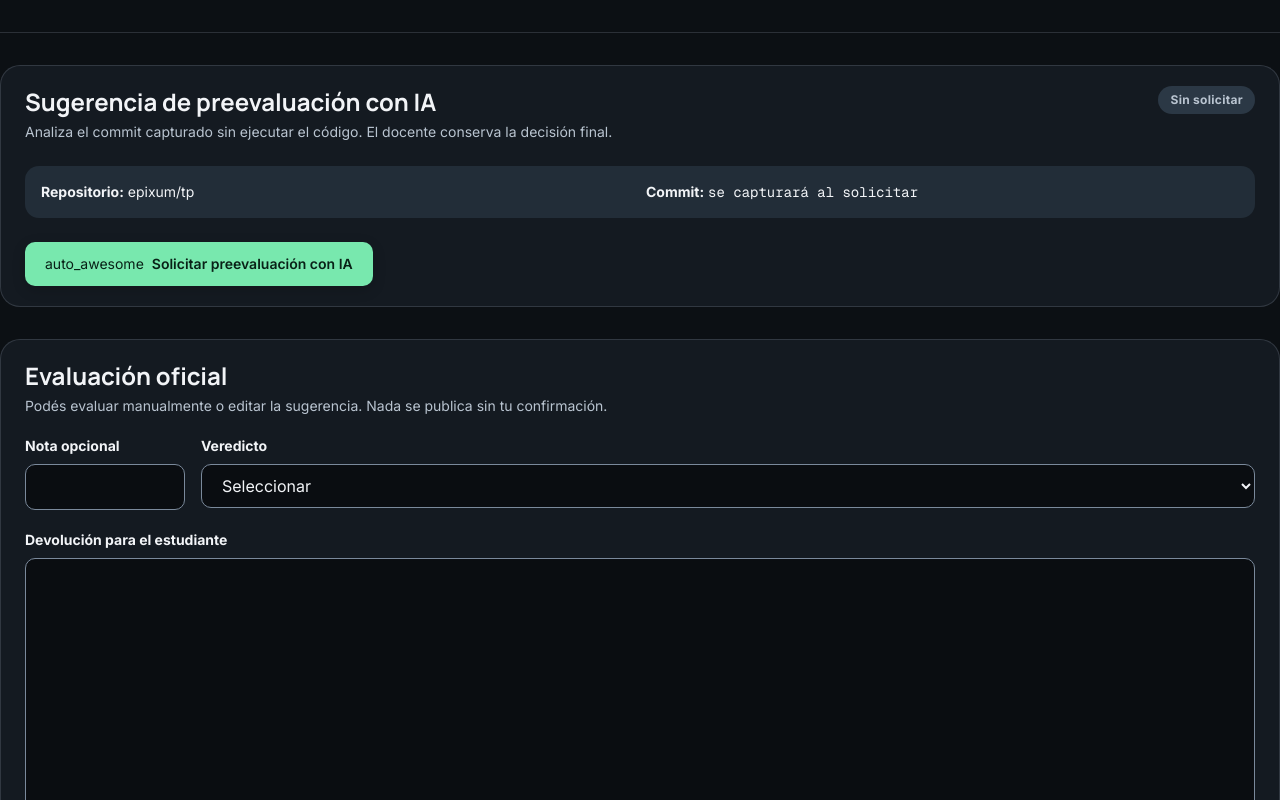
AIPreevaluationClient › presenta fallo recuperable y permite reintentar
Click the button "auto_awesome Solicitar preevaluación con IA" at [199, 264], box 25,242 -> 373,286
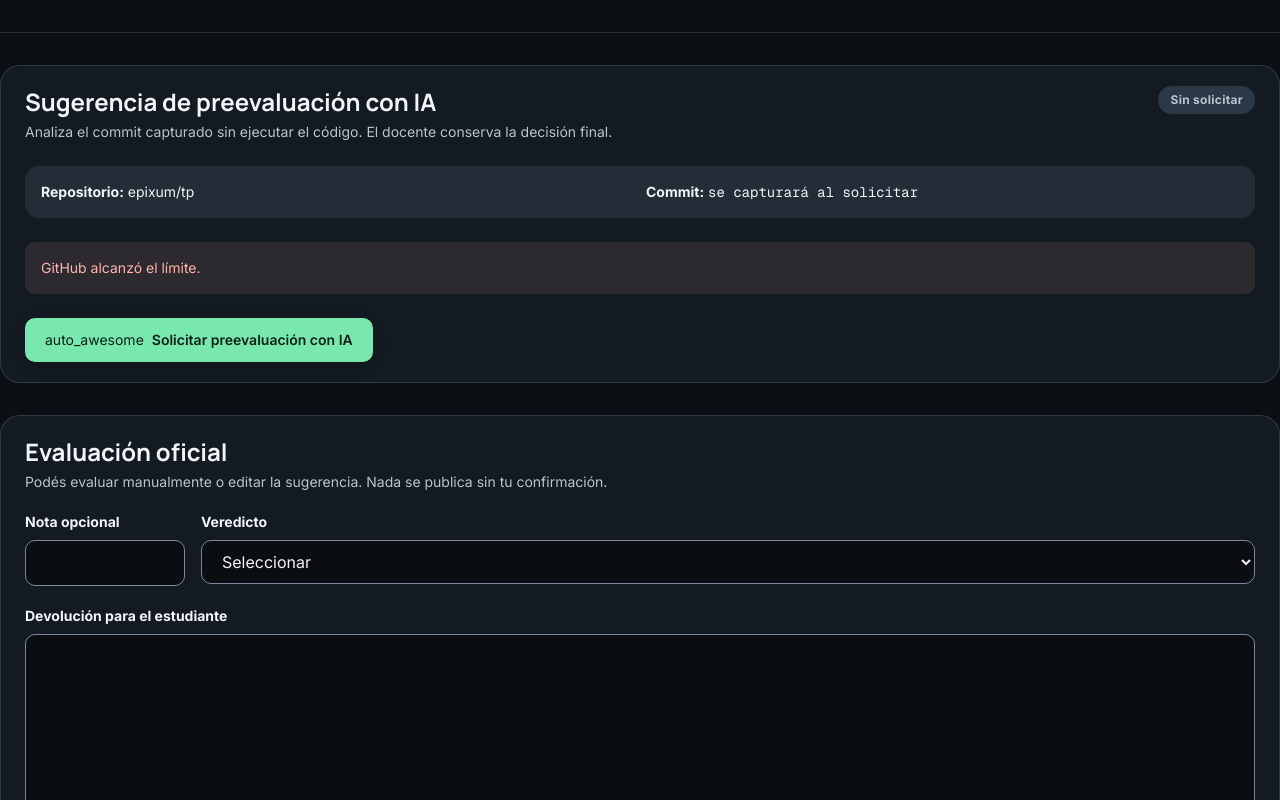
expect the button "auto_awesome Solicitar preevaluación con IA" is enabled: met, box 25,318 -> 373,362
expect the message reads "GitHub alcanzó el límite.": met, box 41,259 -> 201,276
